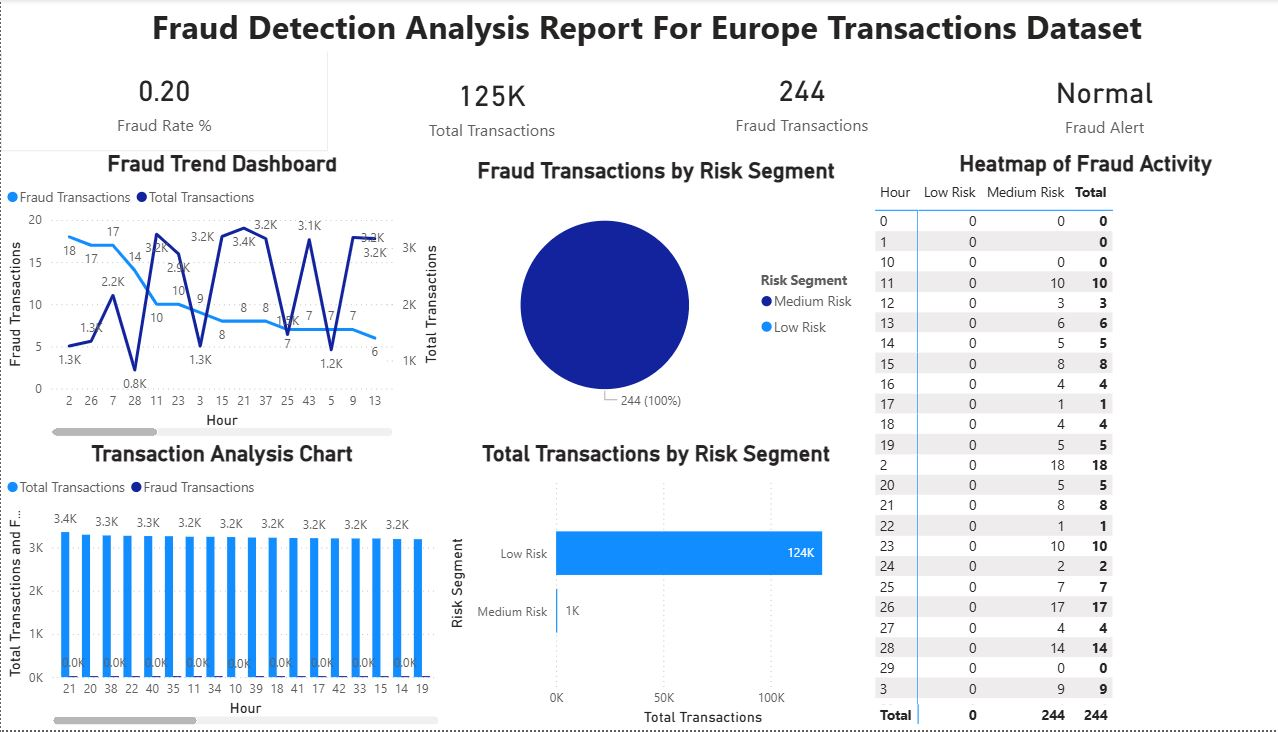

The dashboard page shown, as its layout file describes it:
{"tool":"powerbi","page":{"name":"Report","canvas":[1280,720],"ordinal":0},"visuals":[{"type":"lineChart","title":"Fraud Trend Dashboard ","fields":{"Category":["creditcard.Hour"],"Y":["creditcard.Fraud Transactions"],"Y2":["creditcard.Total Transactions"]},"box":[0,150.2,435.8,285.6],"z":0},{"type":"clusteredColumnChart","title":"Transaction Analysis Chart","fields":{"Category":["creditcard.Hour"],"Y":["creditcard.Total Transactions","creditcard.Fraud Transactions"]},"box":[0,435.8,435.8,284.1],"z":1000},{"type":"barChart","fields":{"Category":["creditcard.Risk Segment"],"Y":["creditcard.Total Transactions"]},"box":[435.8,435.8,419.4,284.1],"z":2000},{"type":"pivotTable","title":"Heatmap of Fraud Activity","fields":{"Rows":["creditcard.Hour"],"Columns":["creditcard.Risk Segment"],"Values":["creditcard.Fraud Transactions"]},"box":[855.3,150.2,425.4,569.7],"z":3000},{"type":"pieChart","fields":{"Category":["creditcard.Risk Segment"],"Y":["creditcard.Fraud Transactions"]},"box":[435.8,156.2,419.4,264.8],"z":4000},{"type":"card","fields":{"Values":["creditcard.Fraud Rate %"]},"box":[0,46.1,321.3,104.1],"z":4001},{"type":"card","fields":{"Values":["creditcard.Total Transactions"]},"box":[321.3,52.1,322.8,104.1],"z":4002},{"type":"card","fields":{"Values":["creditcard.Fraud Transactions"]},"box":[645.5,46.1,287.1,104.1],"z":4003},{"type":"card","fields":{"Values":["creditcard.Fraud Alert"]},"box":[893.9,52.1,386.7,98.2],"z":4004},{"type":"textbox","box":[0,0,1280.7,52.1],"z":4005}]}

Visuals, with their boxes in screenshot pixels (x1, y1, x2, y2), scaled from the page's 1280x720 canvas onto the 1278x732 screenshot:
"Fraud Trend Dashboard " lineChart: 0,153,435,443
"Transaction Analysis Chart" clusteredColumnChart: 0,443,435,731
barChart - creditcard.Risk Segment x creditcard.Total Transactions: 435,443,854,731
"Heatmap of Fraud Activity" pivotTable: 854,153,1277,731
pieChart - creditcard.Risk Segment x creditcard.Fraud Transactions: 435,159,854,428
card - creditcard.Fraud Rate %: 0,47,321,153
card - creditcard.Total Transactions: 321,53,643,159
card - creditcard.Fraud Transactions: 644,47,931,153
card - creditcard.Fraud Alert: 893,53,1277,153
textbox: 0,0,1277,53
